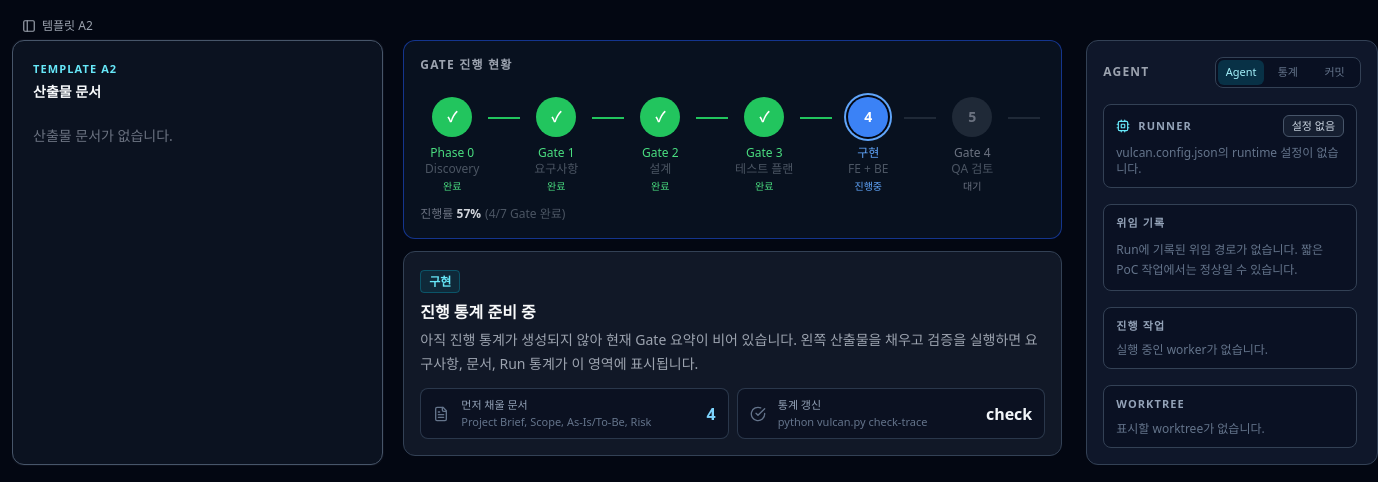
UT-012-19: LayoutToggle 클릭 후 레이아웃 즉시 전환 (페이지 리로드 없음) › A2에서 LayoutToggle 클릭 후 layout-b가 렌더링된다 (페이지 리로드 없음)
Click the button with test id "layout-toggle" at coordinates (57, 26), box [12,12,103,40]
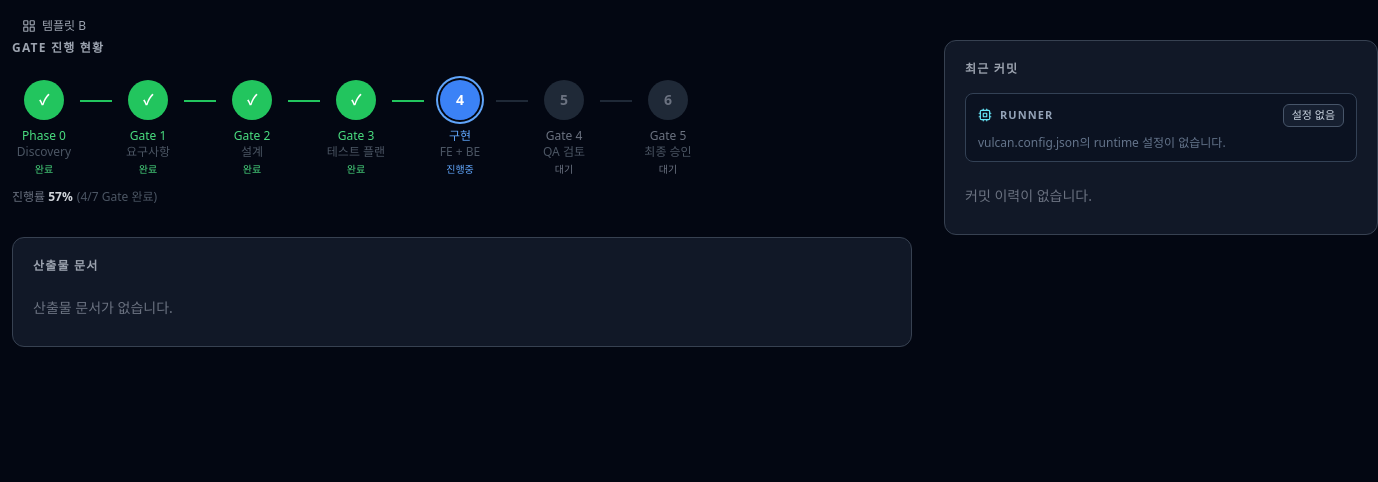
Expected: the element with test id "layout-b" is shown
Expected: the element with test id "layout-a2" is gone
